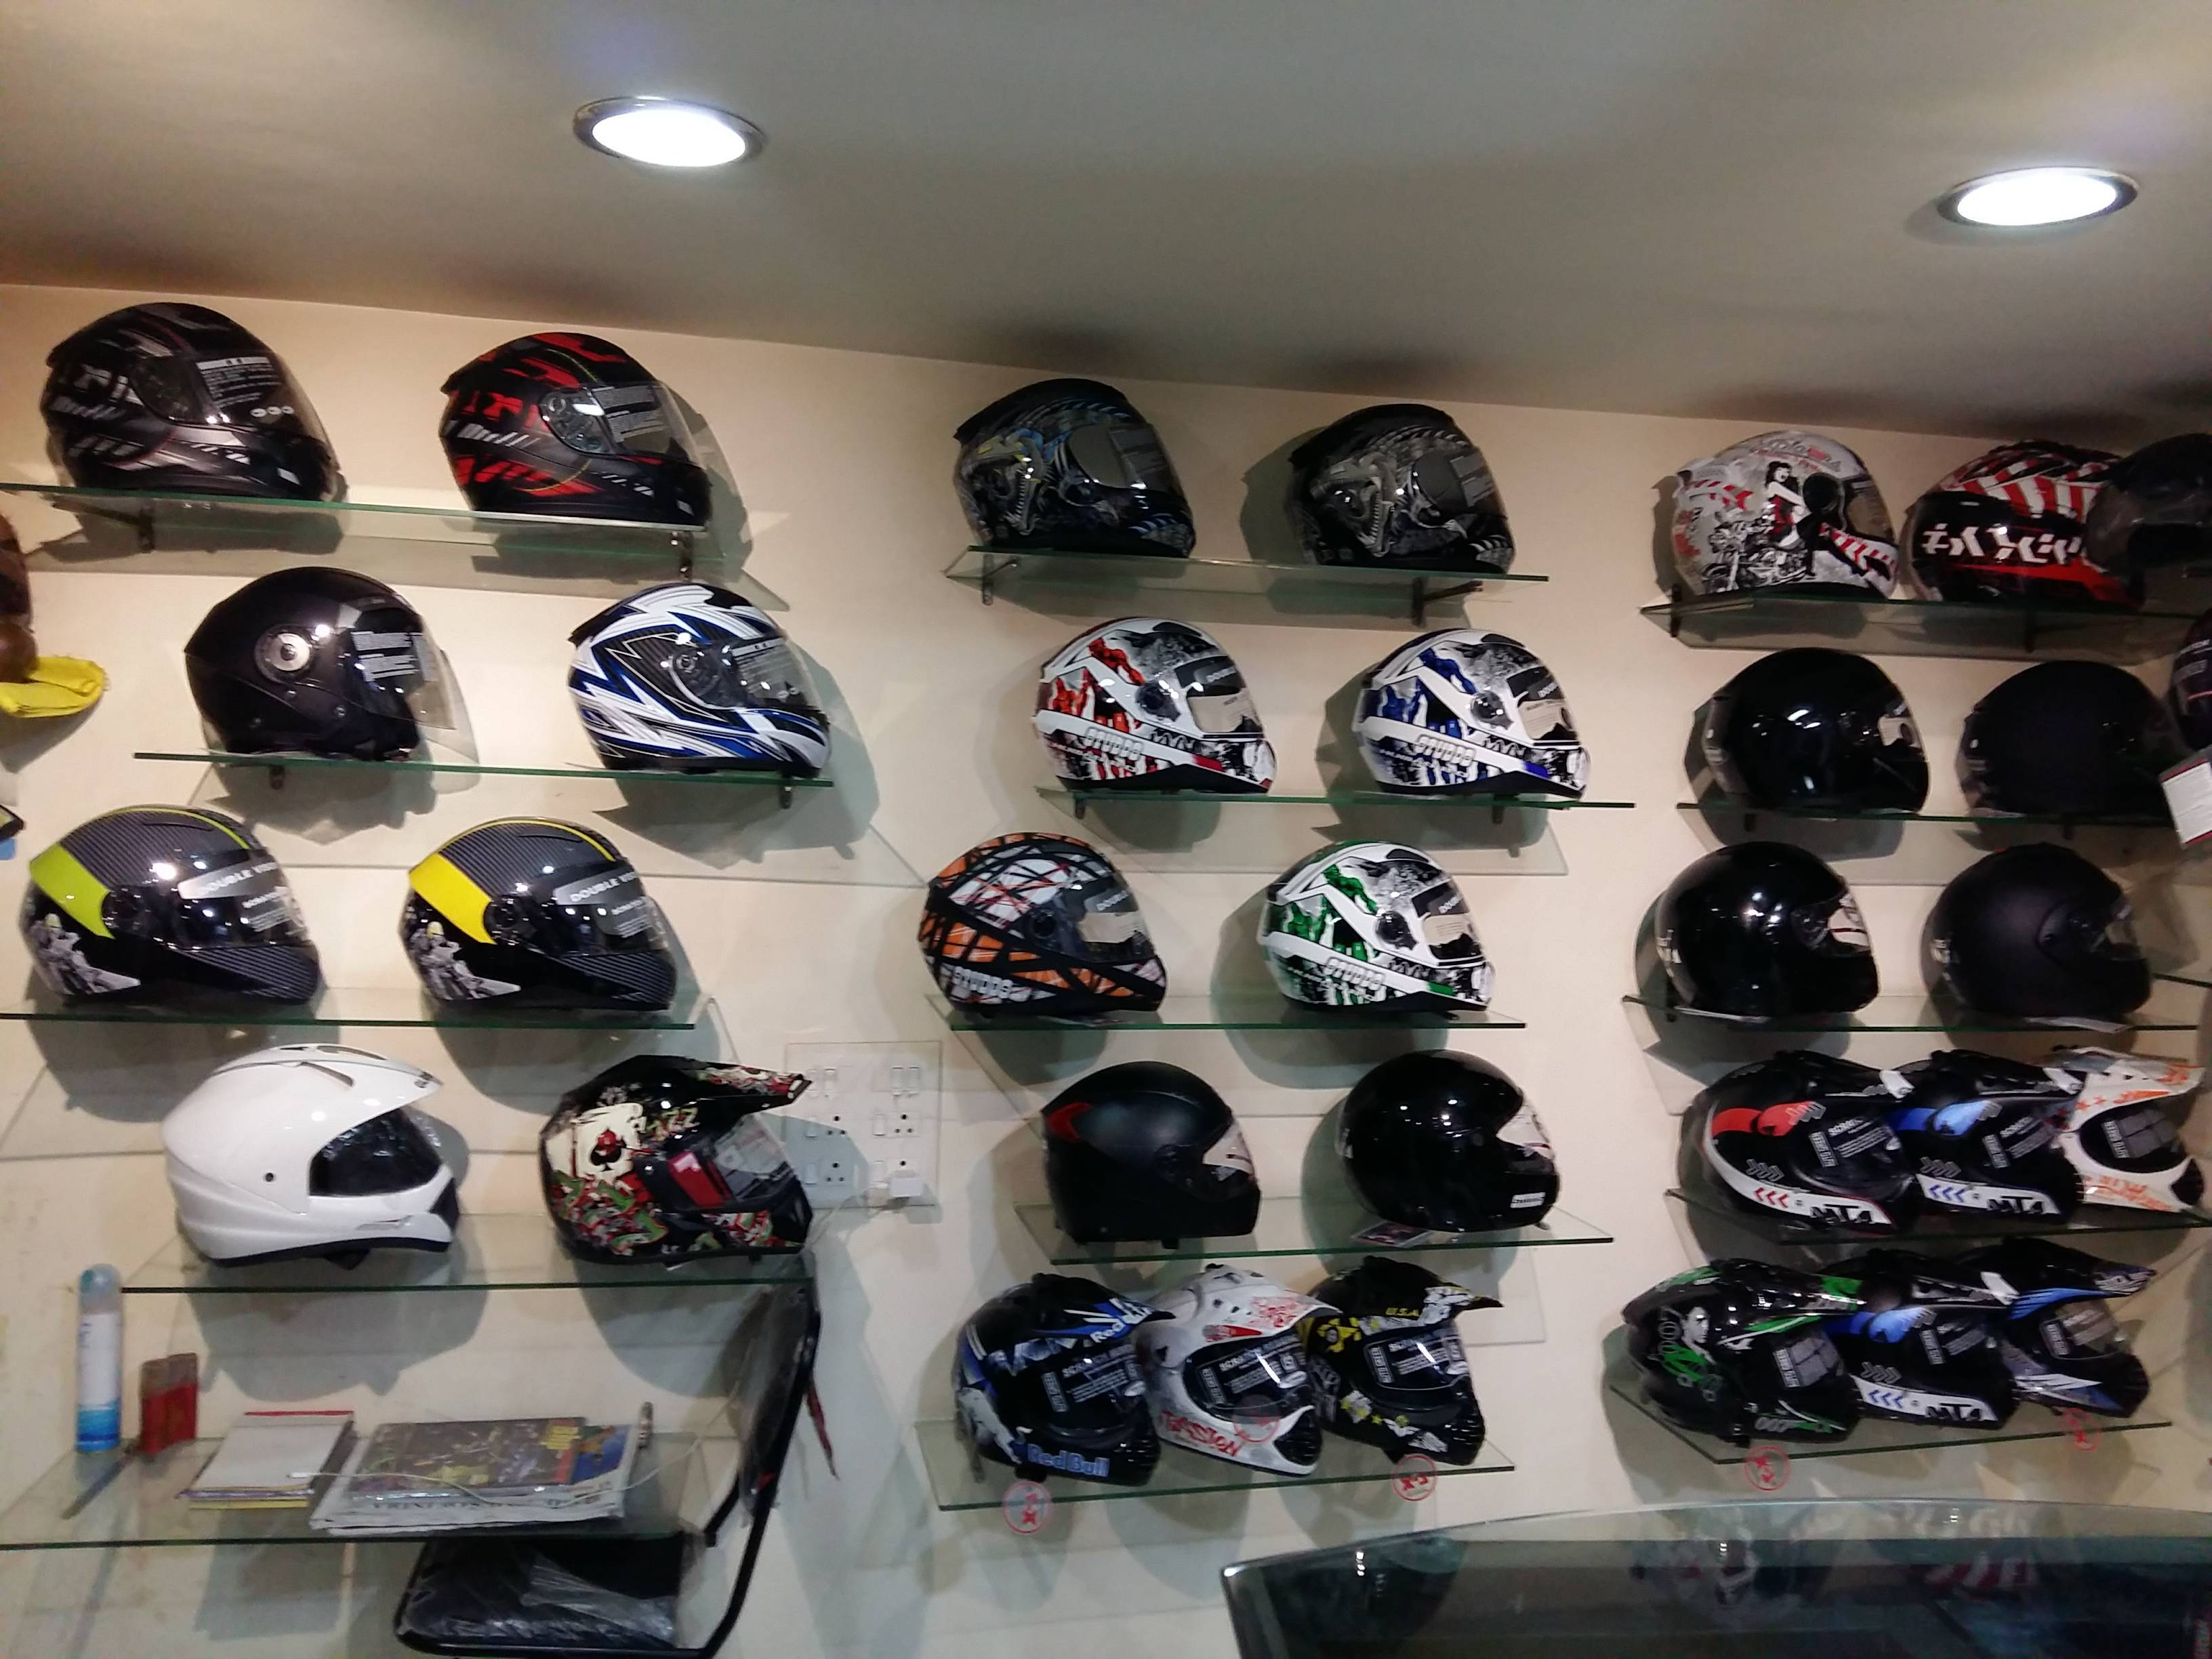with_helmet: (152, 1039, 479, 1272), (26, 281, 357, 498), (529, 1046, 834, 1276), (394, 800, 693, 1026), (23, 809, 333, 1018), (557, 566, 845, 777), (430, 314, 718, 519), (183, 549, 442, 762), (942, 369, 1212, 565), (1629, 1244, 1865, 1466), (907, 833, 1179, 1021), (1916, 430, 2195, 610), (1026, 603, 1285, 793), (1329, 1037, 1573, 1234), (1026, 1054, 1264, 1255), (1256, 831, 1503, 1021), (1684, 641, 1942, 823), (1350, 617, 1595, 805), (1649, 420, 1904, 601), (1284, 387, 1527, 573), (948, 1286, 1167, 1486), (1644, 845, 1886, 1016), (1148, 1270, 1336, 1485), (1958, 659, 2203, 823), (1925, 850, 2158, 1019), (1695, 1058, 1909, 1236), (1320, 1269, 1498, 1471), (1865, 1255, 2027, 1450), (1916, 1047, 2080, 1220)
